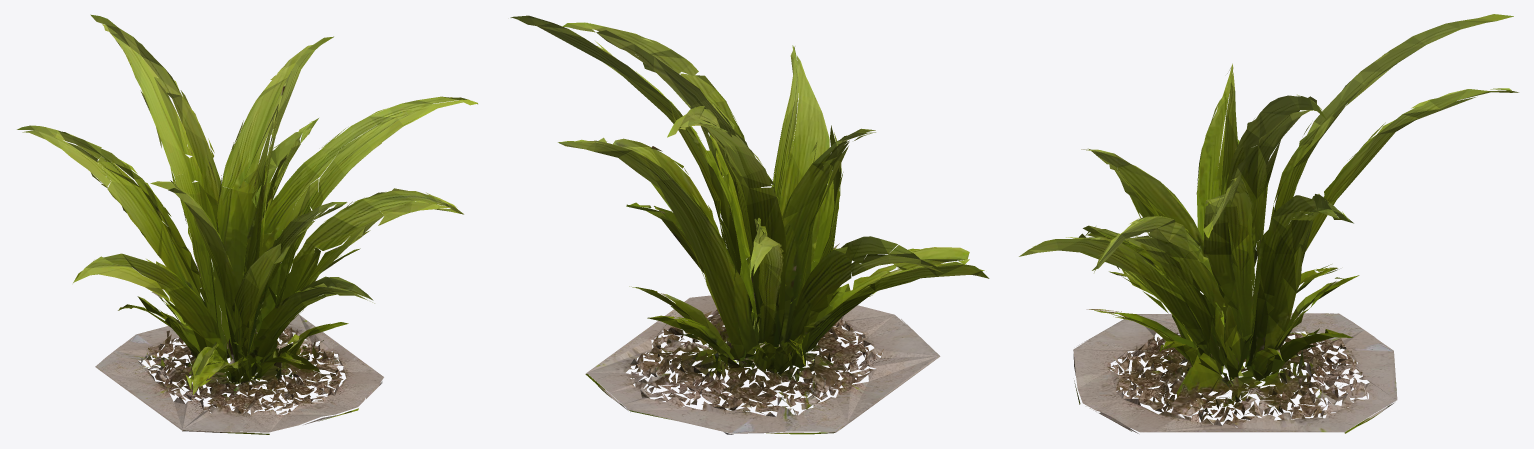
The model's file is grass_tuft.glb.
3 renders of one model, left to right at view 1: azimuth 30°, elevation 25°; view 2: azimuth 150°, elevation 25°; view 3: azimuth 270°, elevation 25°, orthographic. The views are drawn at different scales.
Parts seen in each view (by area): view 1: textured.obj; view 2: textured.obj; view 3: textured.obj.
Part boxes in pixels (x1,y1,x2,y2): textured.obj: [17, 14, 477, 434]; textured.obj: [510, 15, 989, 434]; textured.obj: [1019, 14, 1518, 433].
Size of the model in its own units: 0.2524 by 0.1825 by 0.2386.
1 material, 1 textured.
